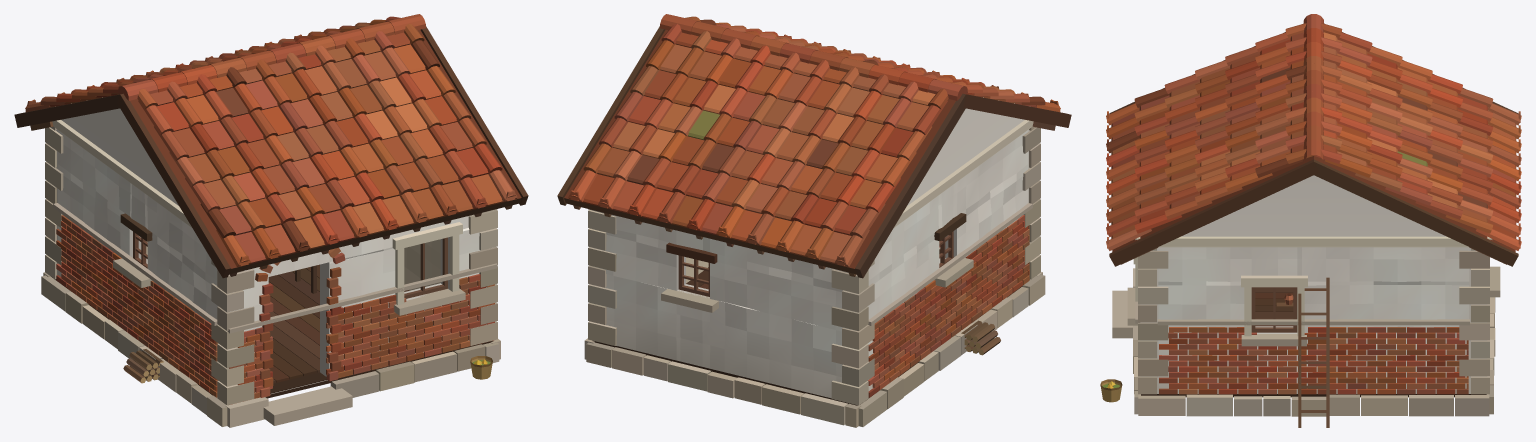
File: pleb_3_1.glb
3 views of the same model, side by side, from view 1: azimuth 30°, elevation 25°; view 2: azimuth 150°, elevation 25°; view 3: azimuth 270°, elevation 25° (orthographic). The views are drawn at different scales.
Visible parts, largest first — view 1: House, Walls, Rooms; view 2: House, Walls; view 3: House, Walls, Rooms.
Part boxes in pixels (x1,y1,x2,y2): House: [14, 14, 528, 427]; Walls: [56, 108, 493, 394]; Rooms: [146, 239, 440, 383]; House: [557, 14, 1071, 427]; Walls: [592, 108, 1029, 398]; House: [1100, 14, 1521, 427]; Walls: [1140, 175, 1486, 393]; Rooms: [1255, 287, 1293, 326].
Bounding box in the file's own units: 4.42 × 3.56 × 5.1.
3 materials, 3 textured.
